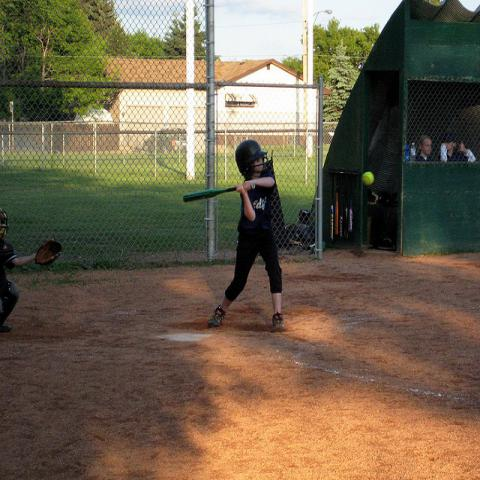car: (143, 134, 174, 154)
